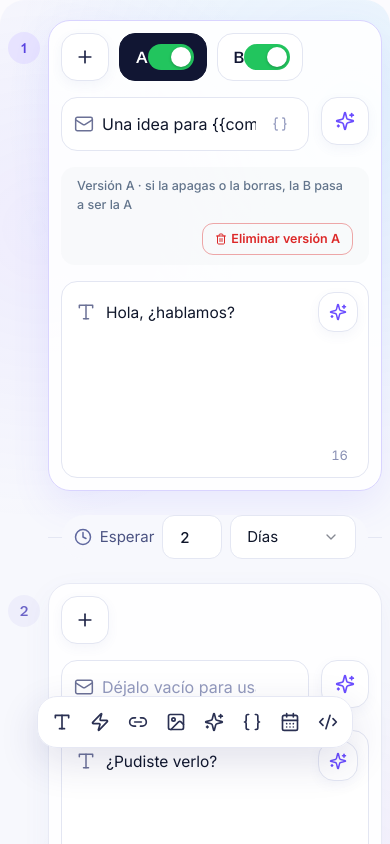
Test: Editor de secuencia › apagar una variante la saca del envío, pero no la borra
Click the button "B" at (231, 57), box top-left (218, 34), bottom-right (244, 80)
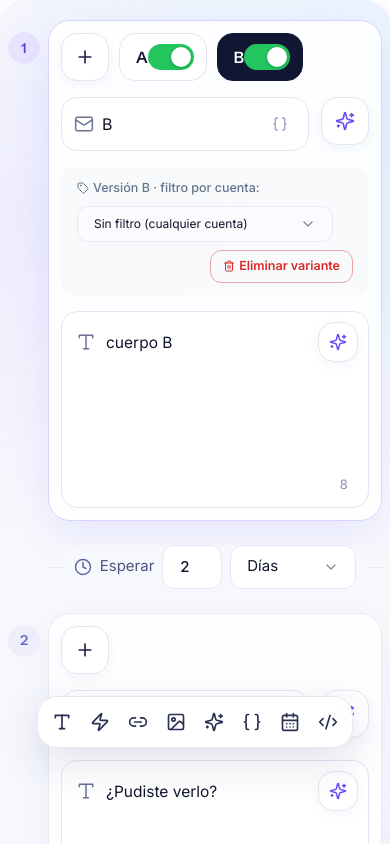
Click the switch titled "Apagar la versión B" at (267, 57), box top-left (244, 44), bottom-right (290, 70)
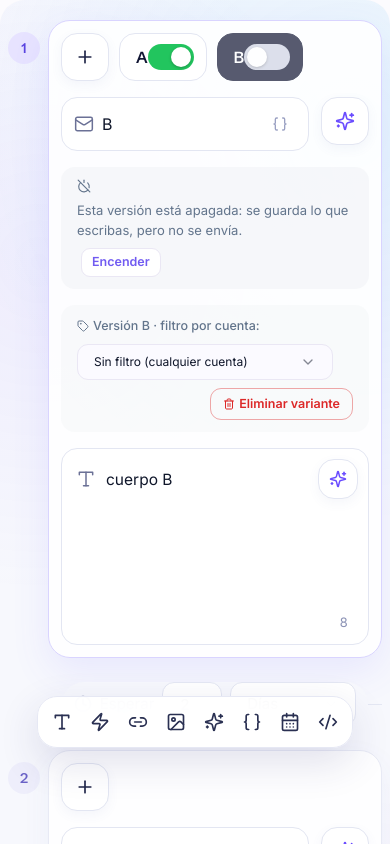
Result: the text "no se envía" is shown at top-left (77, 202), bottom-right (348, 238)
